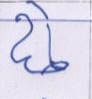u_matra: (23, 56, 69, 75)
